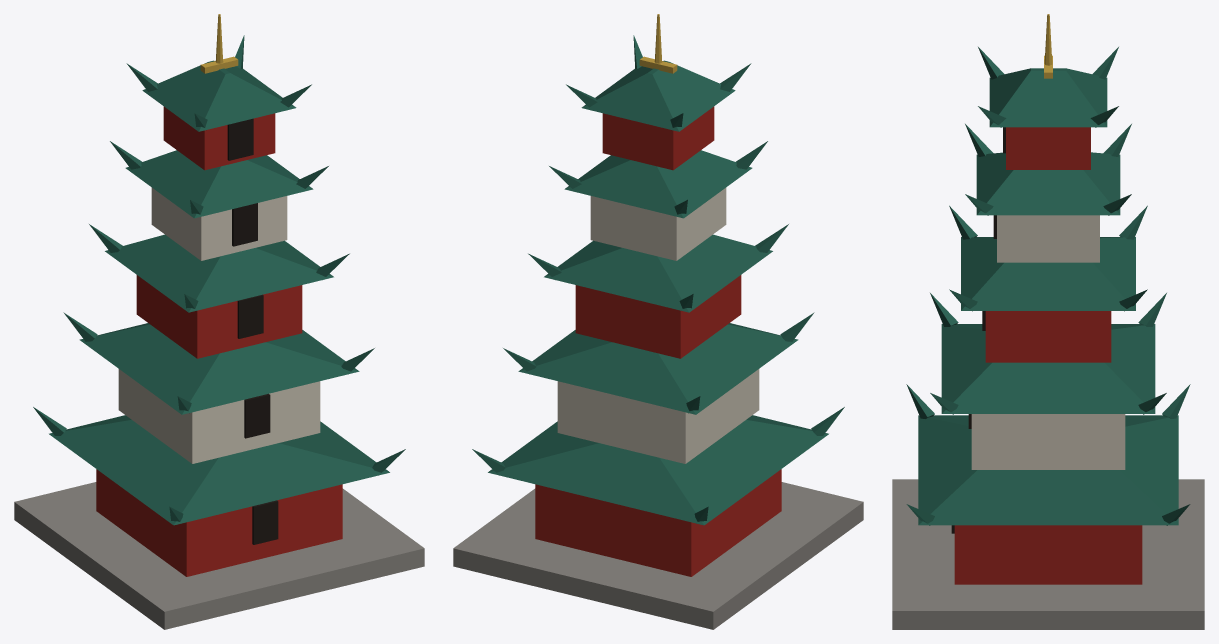
File: dragon_landmark.glb
3 renders of one model, left to right at view 1: azimuth 30°, elevation 25°; view 2: azimuth 150°, elevation 25°; view 3: azimuth 270°, elevation 25°, orthographic. The views are drawn at different scales.
Parts seen in each view (by area): view 1: dragon_landmark; view 2: dragon_landmark; view 3: dragon_landmark.
Part boxes in pixels (<box>): dragon_landmark: <box>14,14,424,629</box>; dragon_landmark: <box>453,14,863,629</box>; dragon_landmark: <box>892,14,1204,629</box>.
Bounding box in the file's own units: 3.6 × 6.99 × 3.6.
